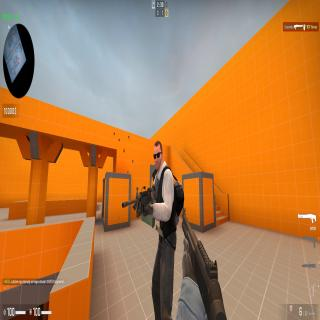T-Body: (144, 140, 178, 320)
T-Head: (154, 140, 164, 174)
